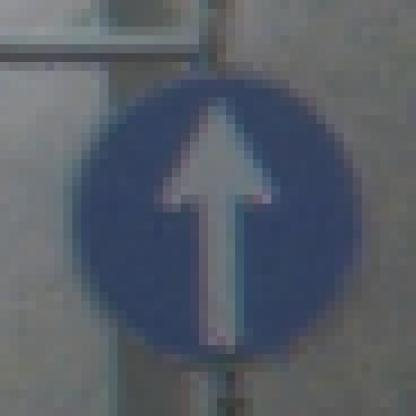AheadOnly: (46, 54, 372, 373)
